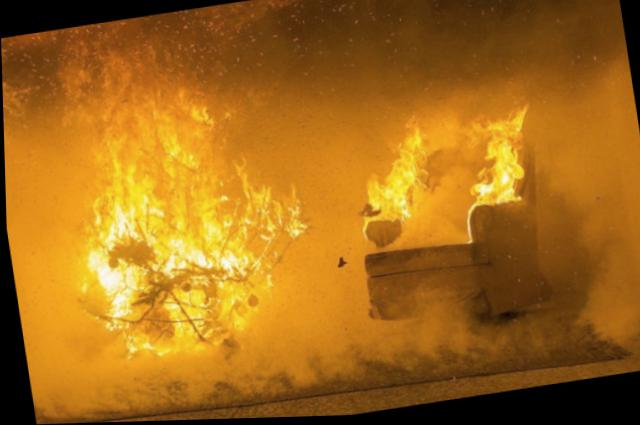fire: (38, 60, 333, 374), (308, 57, 577, 313)
